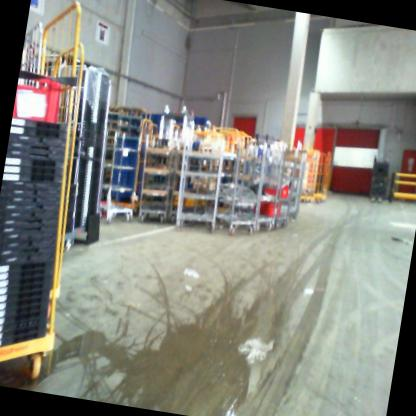pallet_truck: (364, 146, 397, 209)
small_load_carrier: (13, 65, 70, 135), (253, 178, 293, 217)
